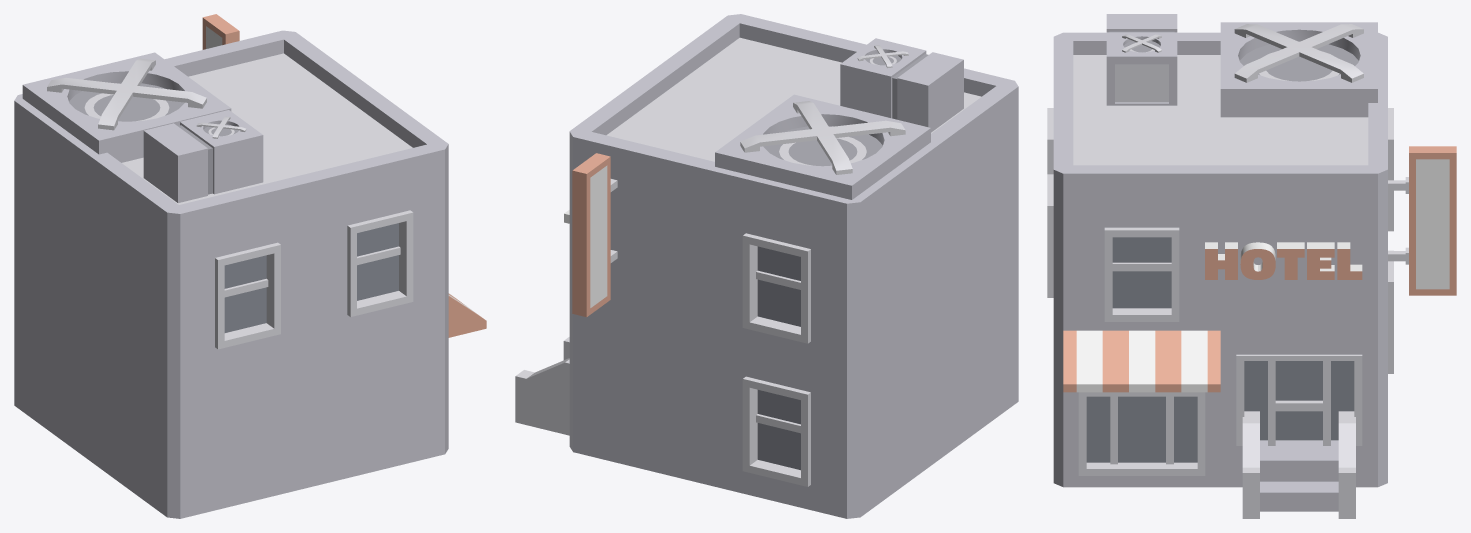
Rendered from Hotel.gltf.
3 renders of one model, left to right at view 1: azimuth 30°, elevation 25°; view 2: azimuth 150°, elevation 25°; view 3: azimuth 270°, elevation 25°, orthographic. The views are drawn at different scales.
Visible parts, largest first — view 1: wall_window_20Mesh, wall_window_19Mesh, wall_straight_8Mesh, wall_straight_9Mesh, roof_corner_39Mesh, wall_straight_35Mesh, wall_straight_16Mesh, detail_airHuge_42Mesh, roof_corner_38Mesh, wall_straight_36Mesh, wall_straight_15Mesh, roof_corner_40Mesh (+8 smaller); view 2: wall_straight_5Mesh, wall_window_34Mesh, wall_window_7Mesh, wall_straight_33Mesh, detail_airHuge_42Mesh, roof_corner_38Mesh, wall_straight_36Mesh, wall_straight_15Mesh, roof_corner_39Mesh, wall_straight_35Mesh, wall_straight_16Mesh, detail_airLarge_43Mesh (+5 smaller); view 3: wall_window_22Mesh, wall_straight_28Mesh, wall_windowLarge_14Mesh, wall_skyscraperDoor%_25Mesh, detail_airHuge_42Mesh, roof_corner_39Mesh, roof_corner_38Mesh, awning_straight_32Mesh, roof_corner_40Mesh, detail_stairs_4Mesh, detail_signRectangle_41Mesh, detail_airLarge_43Mesh (+10 smaller).
Part boxes in pixels (x1=…): wall_window_20Mesh: x1=312, y1=177, x2=444, y2=347; wall_window_19Mesh: x1=180, y1=209, x2=312, y2=380; wall_straight_8Mesh: x1=180, y1=348, x2=312, y2=518; wall_straight_9Mesh: x1=312, y1=316, x2=444, y2=486; roof_corner_39Mesh: x1=260, y1=86, x2=448, y2=209; wall_straight_35Mesh: x1=90, y1=184, x2=180, y2=380; wall_straight_16Mesh: x1=90, y1=323, x2=180, y2=518; detail_airHuge_42Mesh: x1=22, y1=52, x2=231, y2=162; roof_corner_38Mesh: x1=165, y1=30, x2=371, y2=133; wall_straight_36Mesh: x1=14, y1=128, x2=90, y2=322; wall_straight_15Mesh: x1=14, y1=267, x2=90, y2=460; roof_corner_40Mesh: x1=90, y1=151, x2=315, y2=241; wall_straight_5Mesh: x1=569, y1=304, x2=709, y2=485; wall_window_34Mesh: x1=710, y1=199, x2=846, y2=375; wall_window_7Mesh: x1=710, y1=342, x2=846, y2=518; wall_straight_33Mesh: x1=569, y1=160, x2=709, y2=342; detail_airHuge_42Mesh: x1=715, y1=94, x2=930, y2=199; roof_corner_38Mesh: x1=569, y1=72, x2=769, y2=198; wall_straight_36Mesh: x1=847, y1=173, x2=939, y2=375; wall_straight_15Mesh: x1=847, y1=316, x2=939, y2=518; roof_corner_39Mesh: x1=649, y1=14, x2=866, y2=113; wall_straight_35Mesh: x1=939, y1=115, x2=1018, y2=315; wall_straight_16Mesh: x1=939, y1=258, x2=1018, y2=458; detail_airLarge_43Mesh: x1=840, y1=38, x2=963, y2=132; wall_window_22Mesh: x1=1053, y1=198, x2=1220, y2=344; wall_straight_28Mesh: x1=1220, y1=202, x2=1377, y2=344; wall_windowLarge_14Mesh: x1=1053, y1=341, x2=1220, y2=487; wall_skyscraperDoor%_25Mesh: x1=1220, y1=340, x2=1387, y2=445; detail_airHuge_42Mesh: x1=1220, y1=22, x2=1377, y2=117; roof_corner_39Mesh: x1=1053, y1=99, x2=1230, y2=202; roof_corner_38Mesh: x1=1211, y1=99, x2=1387, y2=202; awning_straight_32Mesh: x1=1063, y1=330, x2=1220, y2=392; roof_corner_40Mesh: x1=1053, y1=32, x2=1229, y2=121; detail_stairs_4Mesh: x1=1242, y1=411, x2=1355, y2=518; detail_signRectangle_41Mesh: x1=1388, y1=146, x2=1456, y2=295; detail_airLarge_43Mesh: x1=1106, y1=14, x2=1177, y2=105.
Bounding box in the file's own units: 26.01 × 24.61 × 26.03.
